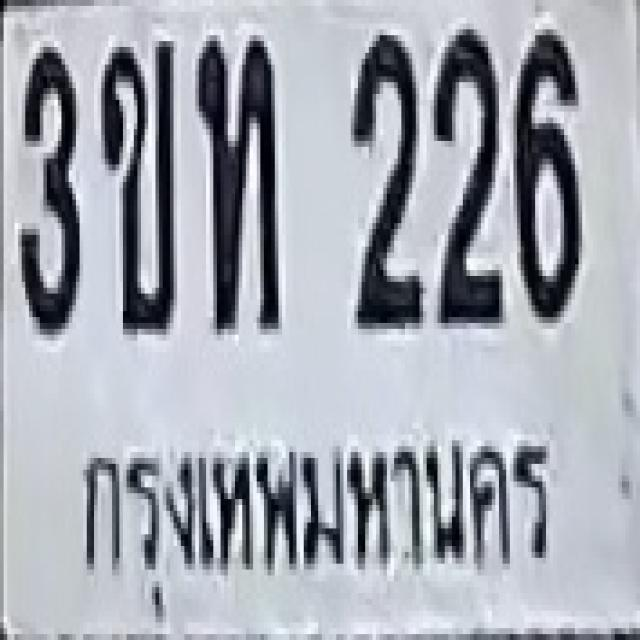-: (195, 29, 278, 329), (98, 38, 174, 332)
2: (430, 23, 499, 323), (349, 32, 418, 326)
3: (16, 41, 78, 329)
6: (514, 26, 578, 320)
BKK: (68, 423, 562, 618)
